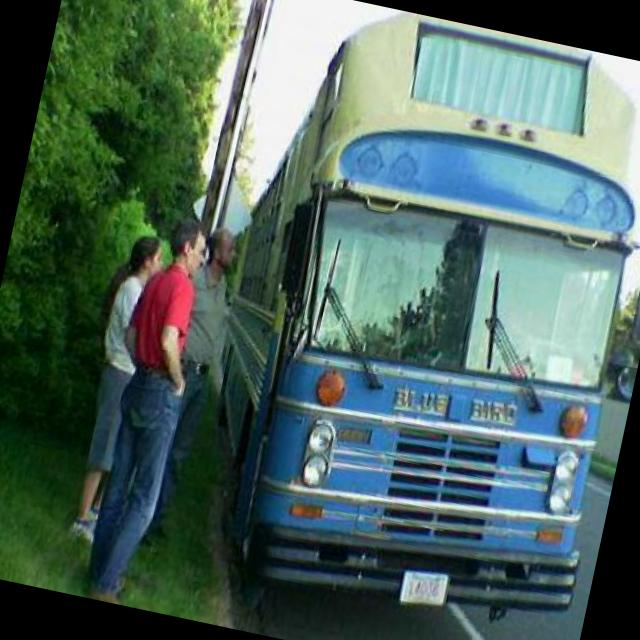Person: (77, 214, 211, 594), (50, 225, 168, 548), (136, 216, 248, 548)
